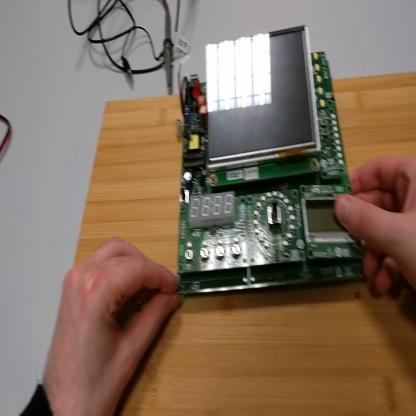hand: (46, 236, 181, 415), (336, 154, 416, 296)
low voltage board: (174, 29, 372, 298)
oscilloscope probe tip: (165, 6, 174, 91)
working area: (79, 75, 416, 416)
